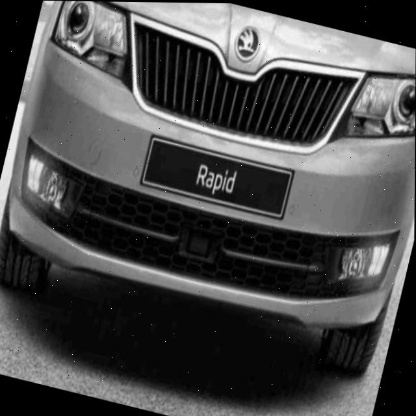car: (0, 0, 416, 379)
